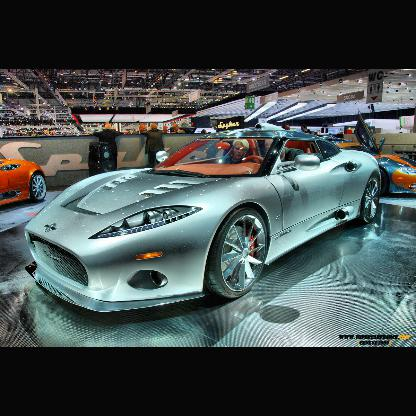Spyker C8 Coupe 2009: (26, 119, 383, 315)
